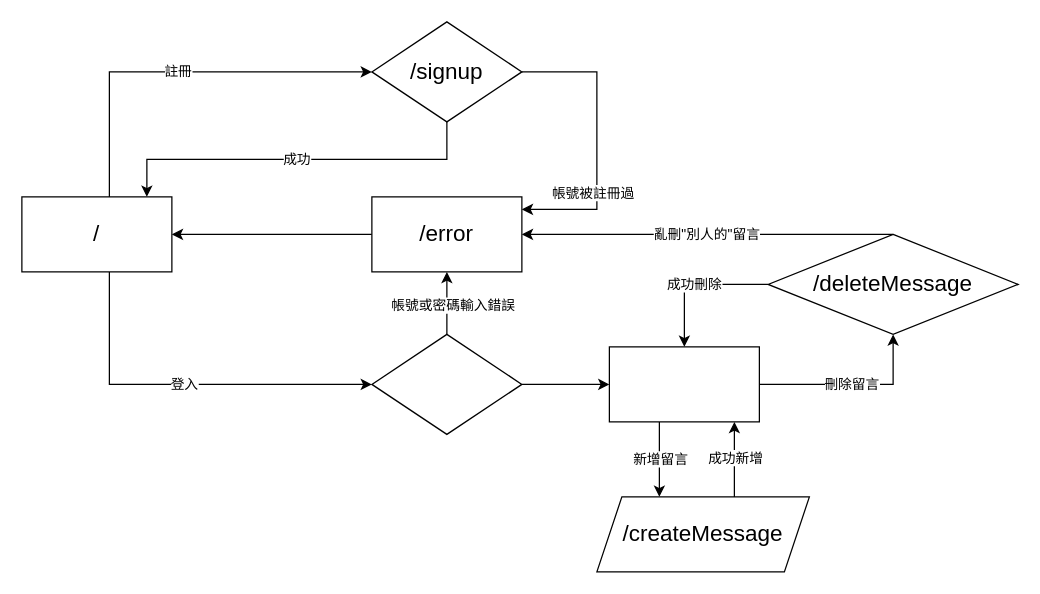
Some shapes in this 1040 by 594 pixel diagram are drawn without their labels. Each missing label, with the box of its shape:
/member: (608, 346, 759, 422)
/signin: (371, 333, 522, 434)
